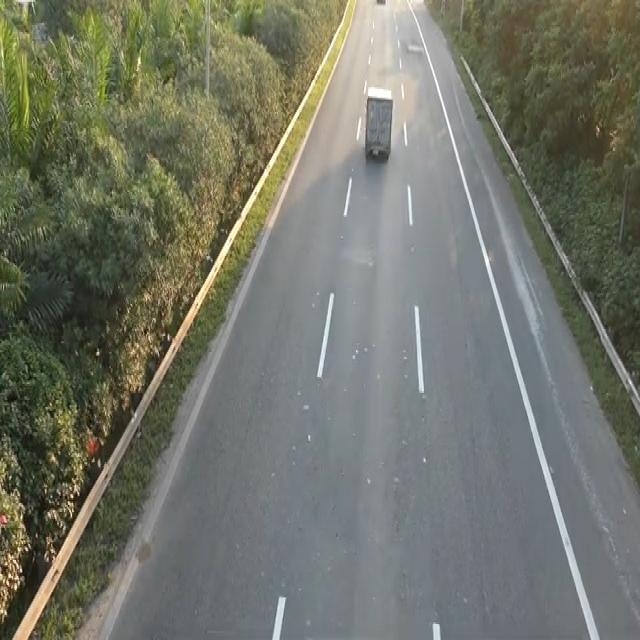minivan: (363, 82, 394, 164)
